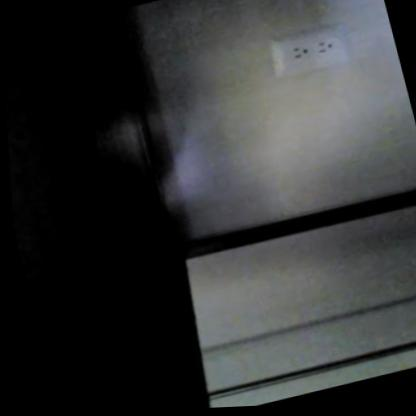OUTLET: (264, 18, 354, 77)
